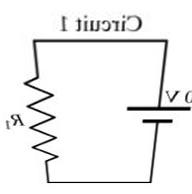resistor: (24, 64, 62, 177)
